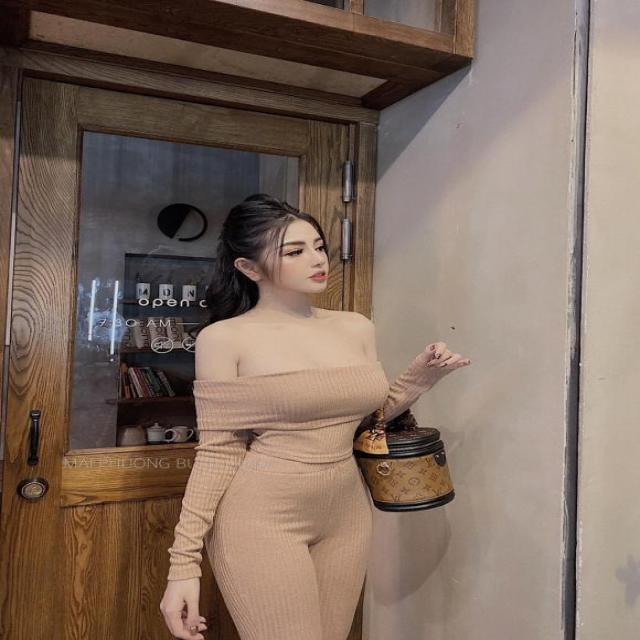clothes: (158, 322, 391, 640)
